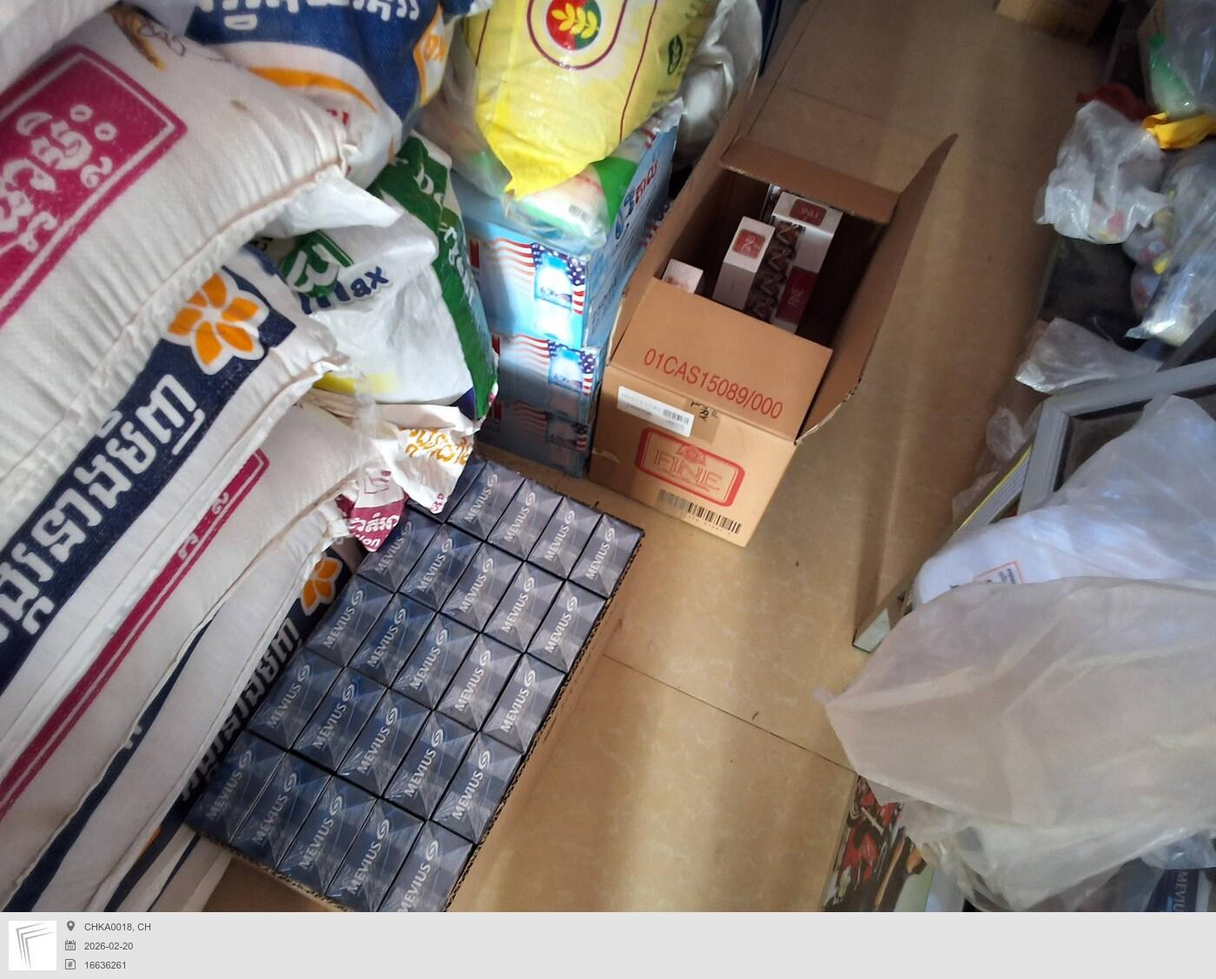cigarette_pack: (275, 771, 378, 895), (762, 192, 841, 349), (232, 748, 328, 876), (180, 730, 268, 850), (330, 800, 423, 910), (377, 825, 480, 922), (426, 737, 519, 844), (243, 647, 334, 748), (388, 709, 475, 812), (484, 477, 579, 571), (290, 666, 377, 767), (338, 687, 427, 782), (530, 578, 607, 685), (566, 514, 653, 606), (484, 654, 561, 755), (342, 591, 428, 681), (402, 524, 486, 616), (444, 534, 521, 632), (486, 565, 565, 660), (390, 612, 475, 699), (444, 634, 521, 727), (535, 491, 607, 586), (305, 576, 390, 655), (366, 505, 439, 592), (715, 213, 777, 313), (450, 467, 522, 540), (655, 259, 701, 290)
